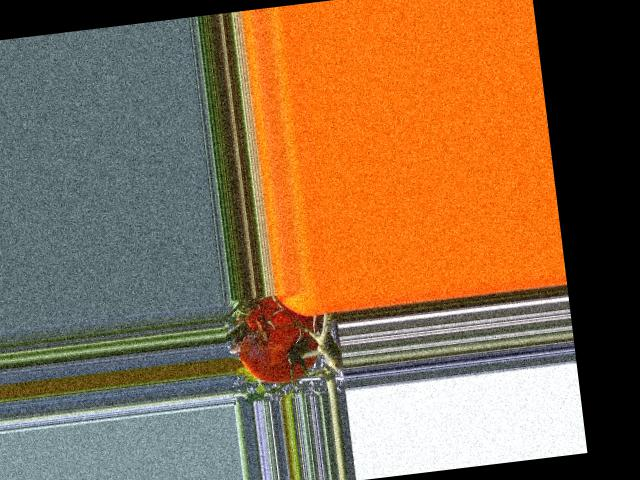tomato: (230, 292, 322, 388)
